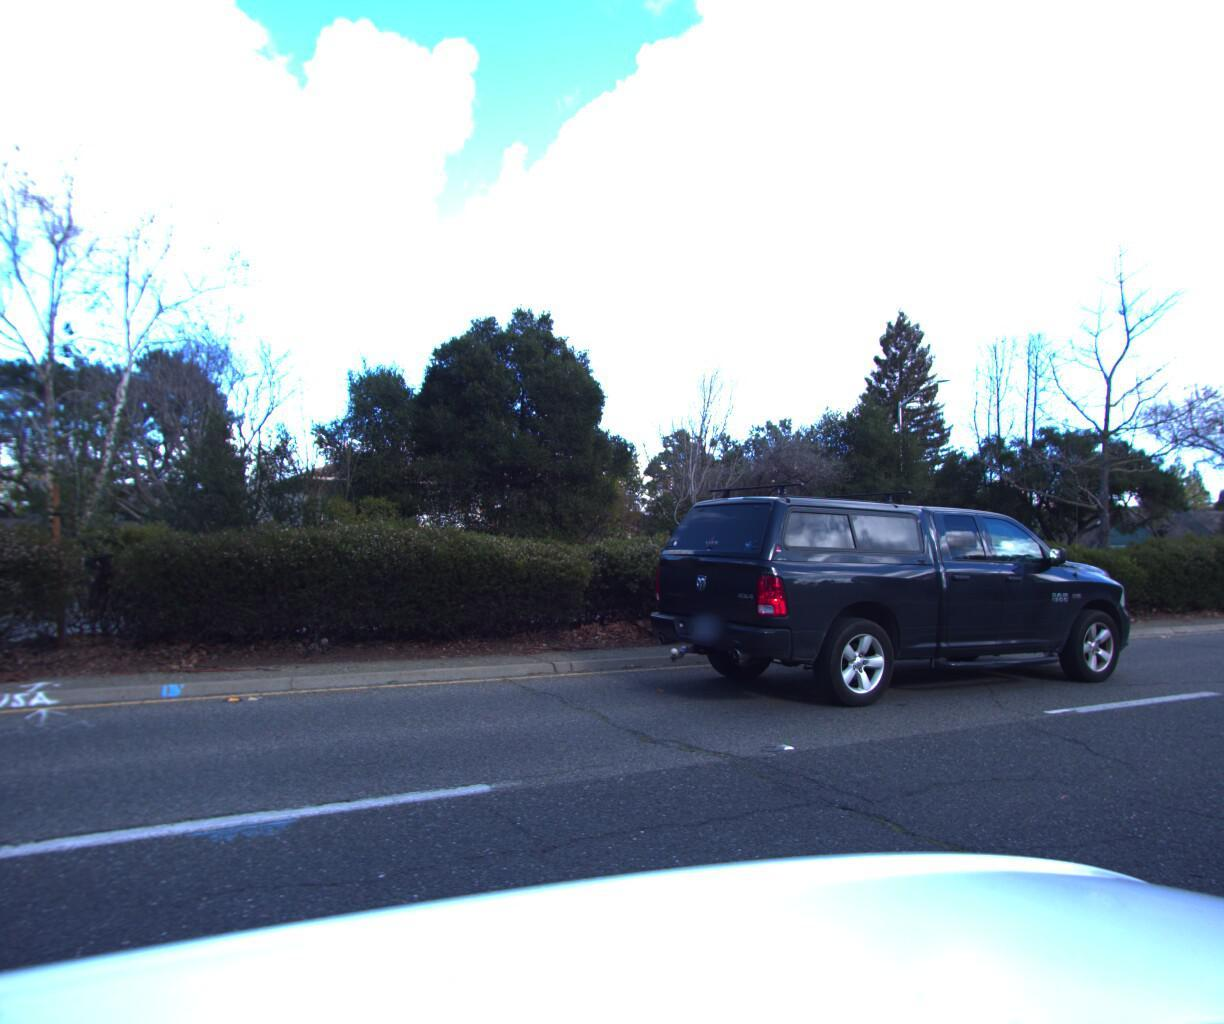car: (638, 470, 1142, 719)
